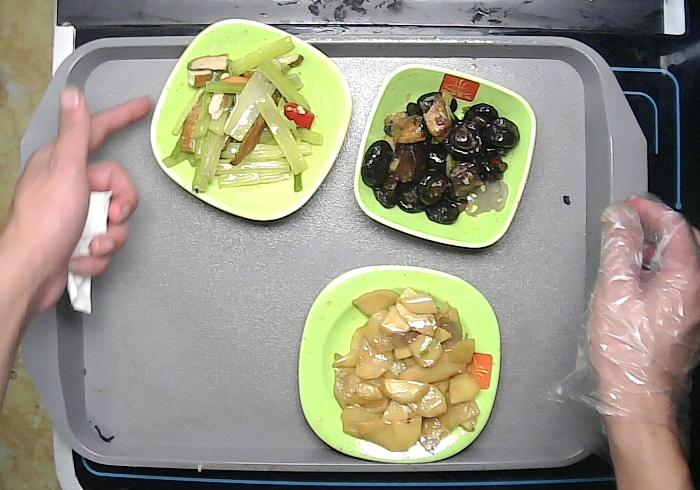SHKJ-Lv_Se_Cai_Die: (149, 16, 351, 222)
SHKJ-Lv_Se_Si_Fang_Cai_Die: (297, 264, 503, 463)
SHKJ-Lv_Se_Xiao_Fang_Die: (354, 63, 537, 248)
